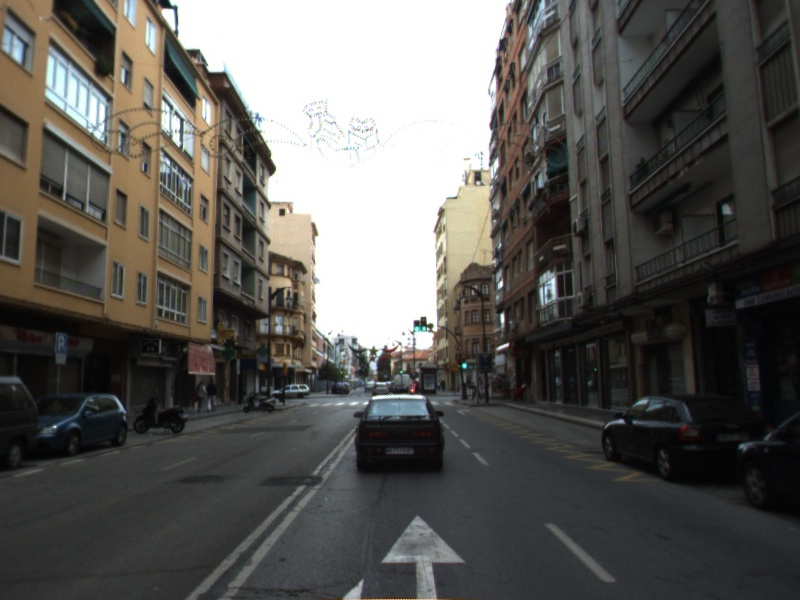RIGHT: (455, 407, 472, 417)
STRAIGHT: (379, 513, 467, 600)
